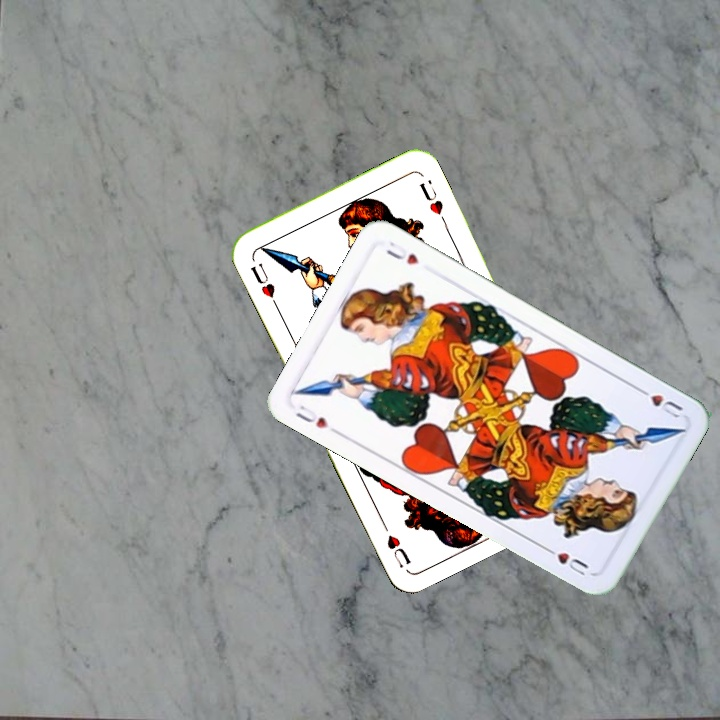HU: (632, 382, 686, 421), (246, 259, 281, 310), (291, 401, 331, 431)
